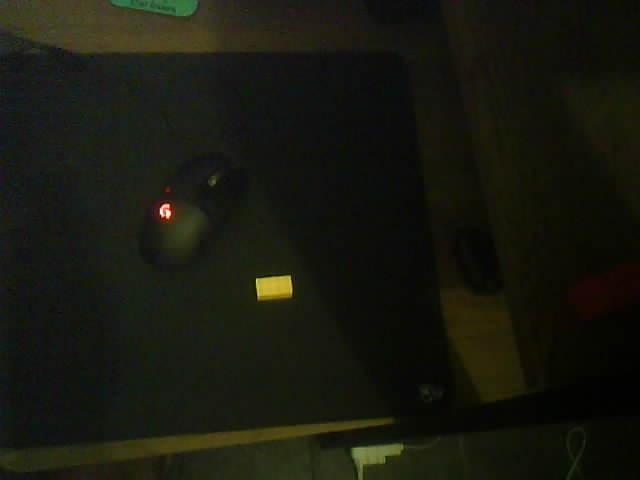lego: (255, 274, 294, 301)
